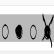correct: (15, 21, 24, 40)
no answer: (1, 20, 9, 41), (29, 24, 38, 41)
not correct: (42, 13, 54, 48)
